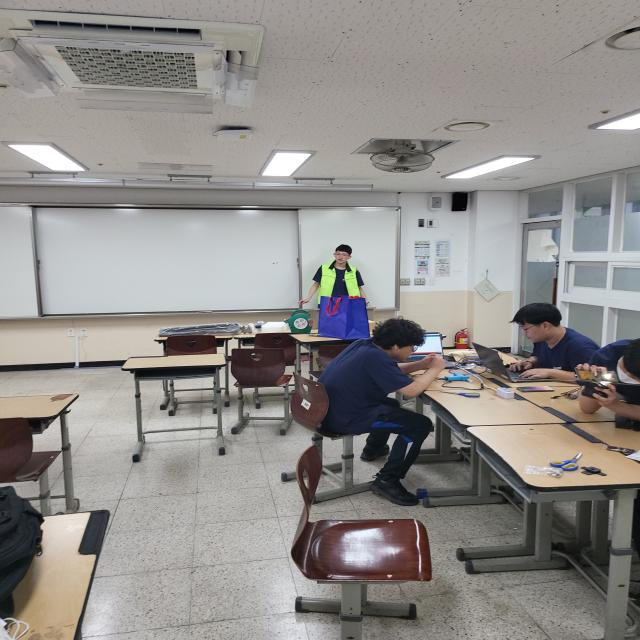weston_spy: (312, 259, 364, 300)
